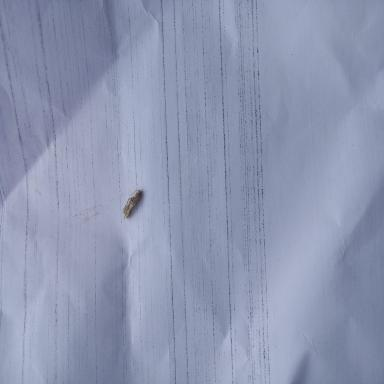pbw: (122, 189, 144, 221)
